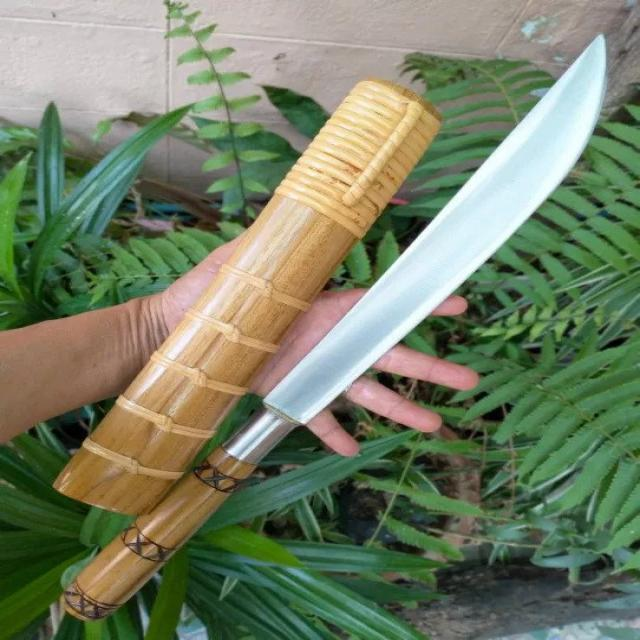short sword: (55, 23, 613, 624)
